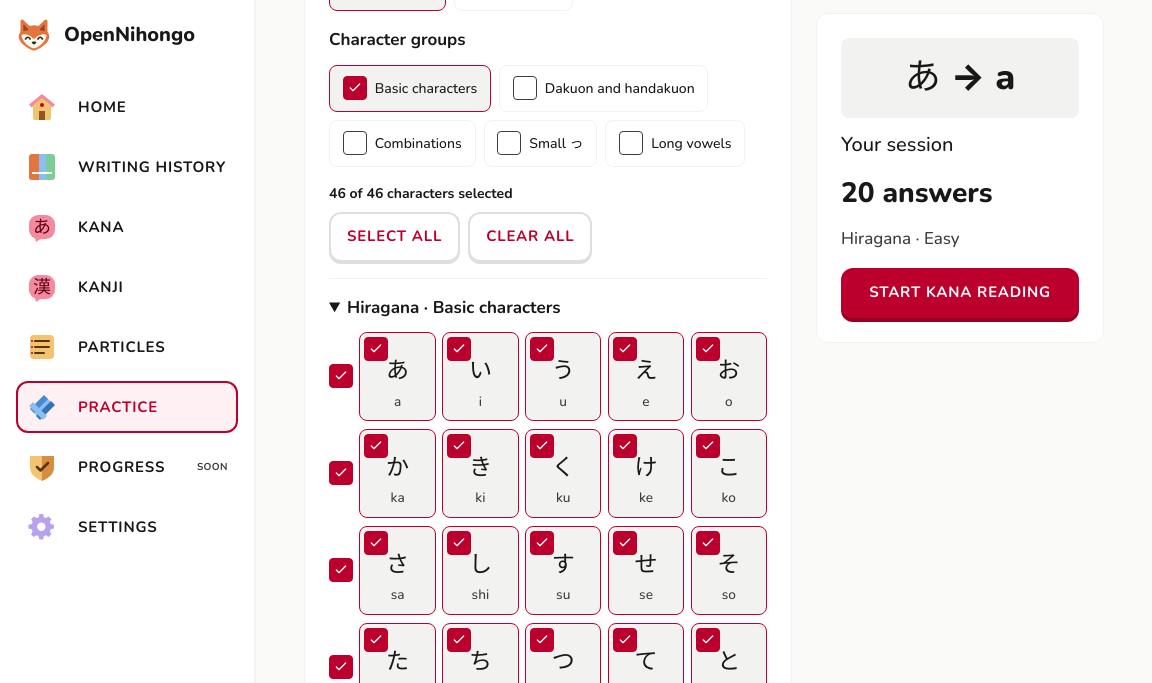
Test case: configures a mixed-script selection, preserves individual choices, and starts the requested session
This screenshot has width=1152, height=683.
(page scrolled)
Expected: the navigation bar named "Primary navigation" is shown, [16,81,238,553]
Click the checkbox named "Hiragana あ (a)". click: click(376, 349)
box: [364,337,388,361]
(page scrolled)
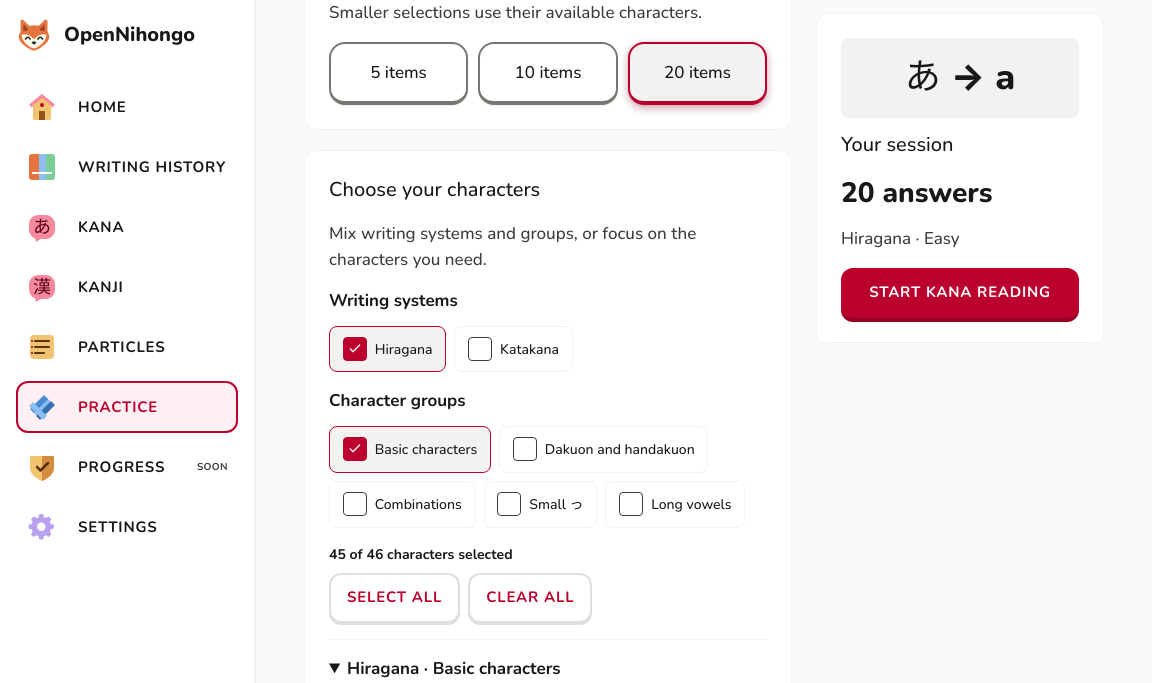
Click the checkbox labelled "Katakana". click: click(480, 349)
box: [468,337,492,361]
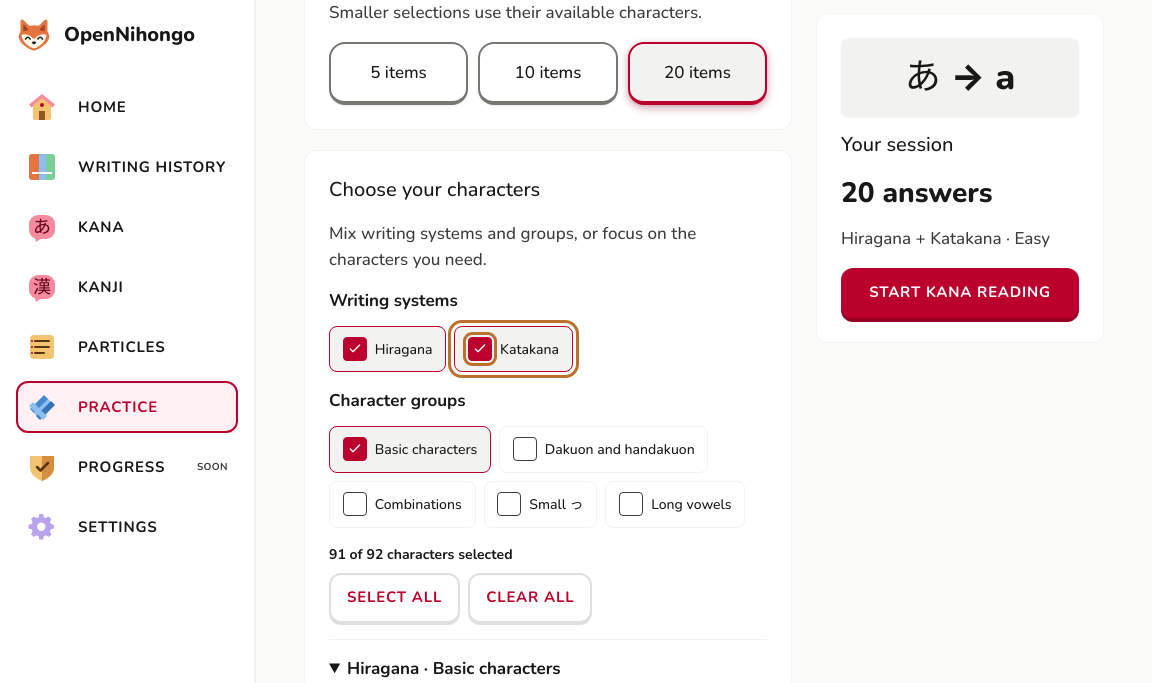
Click the button "Start Kana reading". click: click(960, 292)
box: [841,268,1079,318]
(page scrolled)
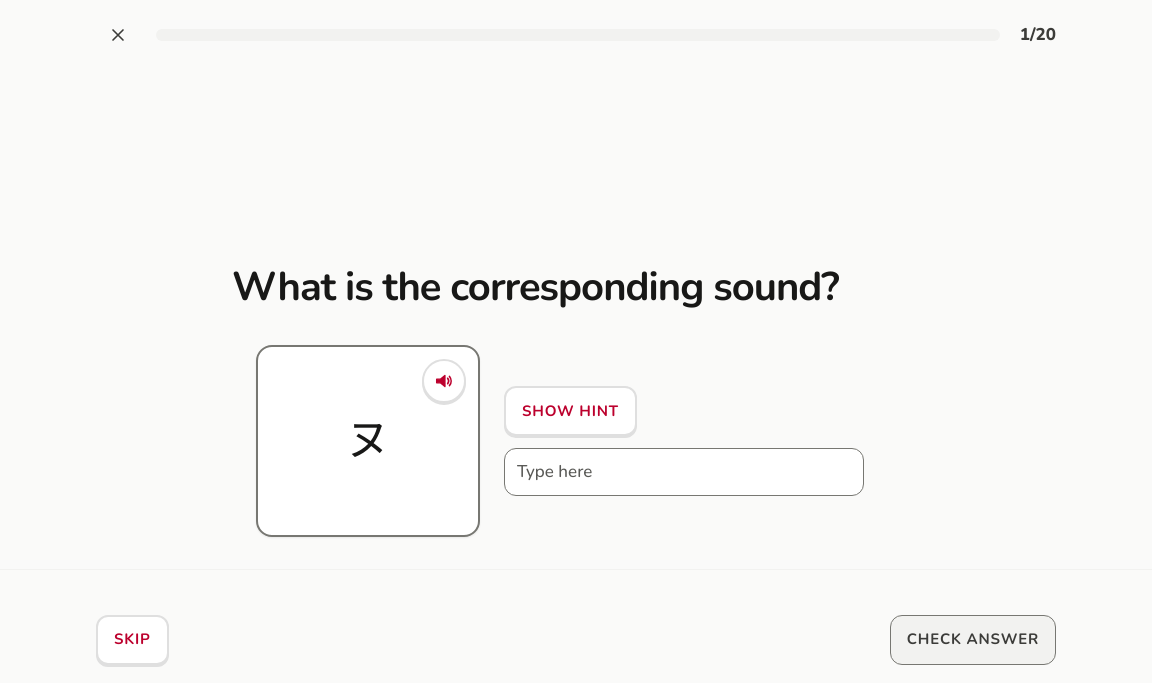
Result: the heading "What is the corresponding sound?" is shown at [232,265,920,309]
Result: the button "Show hint" is shown at [504,386,637,436]
